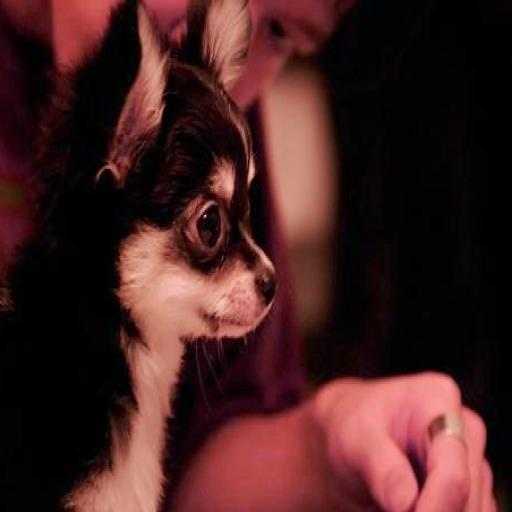dog_face: (90, 0, 272, 343)
